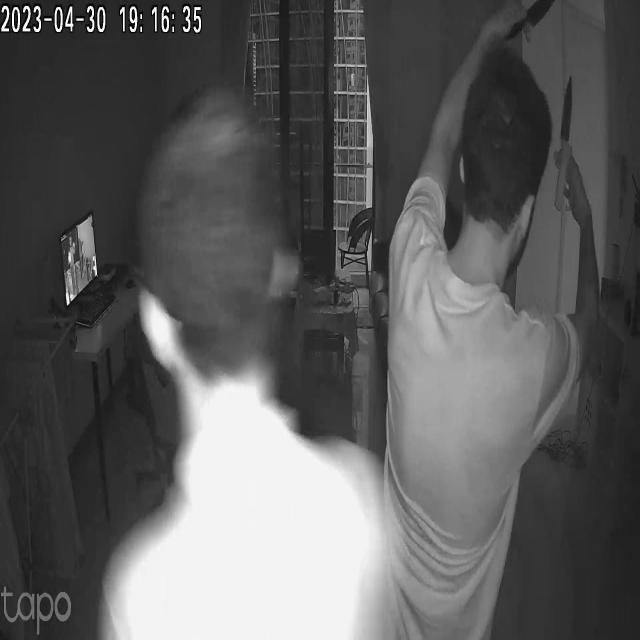Knife: (554, 73, 594, 201)
